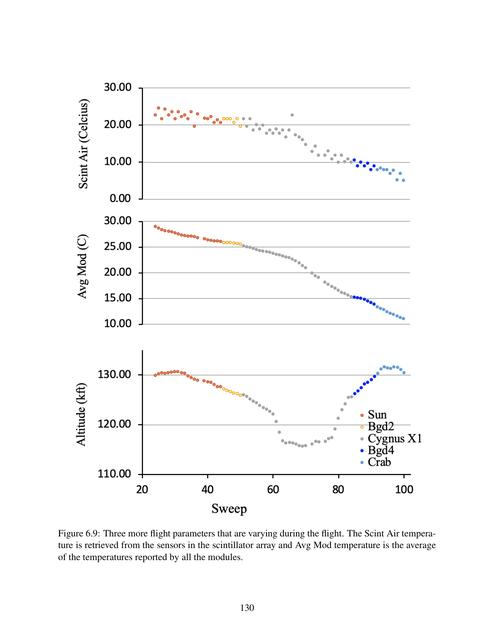box: (73, 79, 423, 517)
